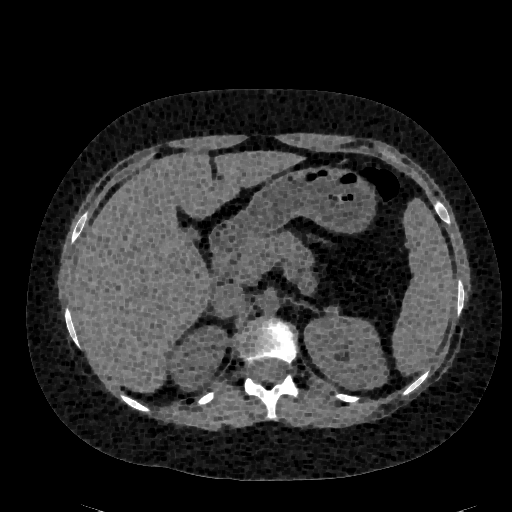Lesion: (318, 301, 342, 318)
